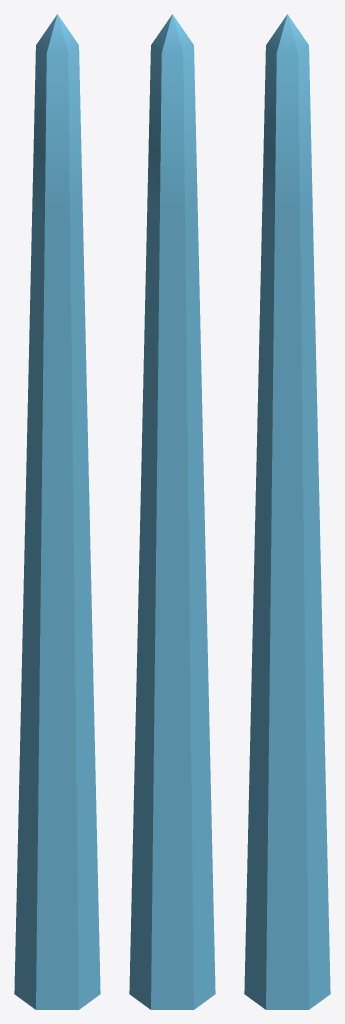
File: fxlib-aura.glb
3 views of the same model, side by side, from view 1: azimuth 90°, elevation 25°; view 2: azimuth 150°, elevation 25°; view 3: azimuth 270°, elevation 25° (orthographic).
Parts seen in each view (by area): view 1: Aura; view 2: Aura; view 3: Aura.
Boxes of the visible parts, box(x1,y1,x2,y2) form: Aura: box(14, 14, 100, 1009); Aura: box(129, 14, 215, 1009); Aura: box(244, 14, 330, 1009).
Size of the model in its own units: 0.0499 by 0.723 by 0.0576.
